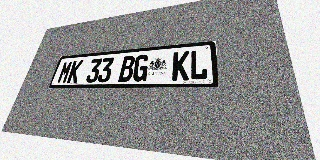3: (85, 58, 103, 83), (97, 57, 114, 83)
B: (118, 55, 136, 82)
G: (132, 54, 150, 82)
K: (172, 51, 190, 81), (66, 60, 84, 83)
L: (189, 49, 208, 80)
M: (56, 61, 73, 84)
